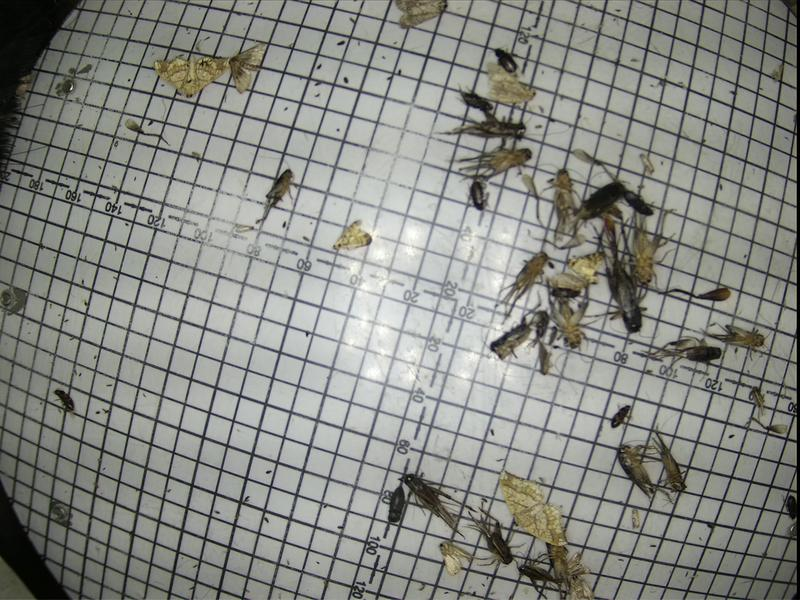Athetis lepigone: (568, 546, 589, 577)
